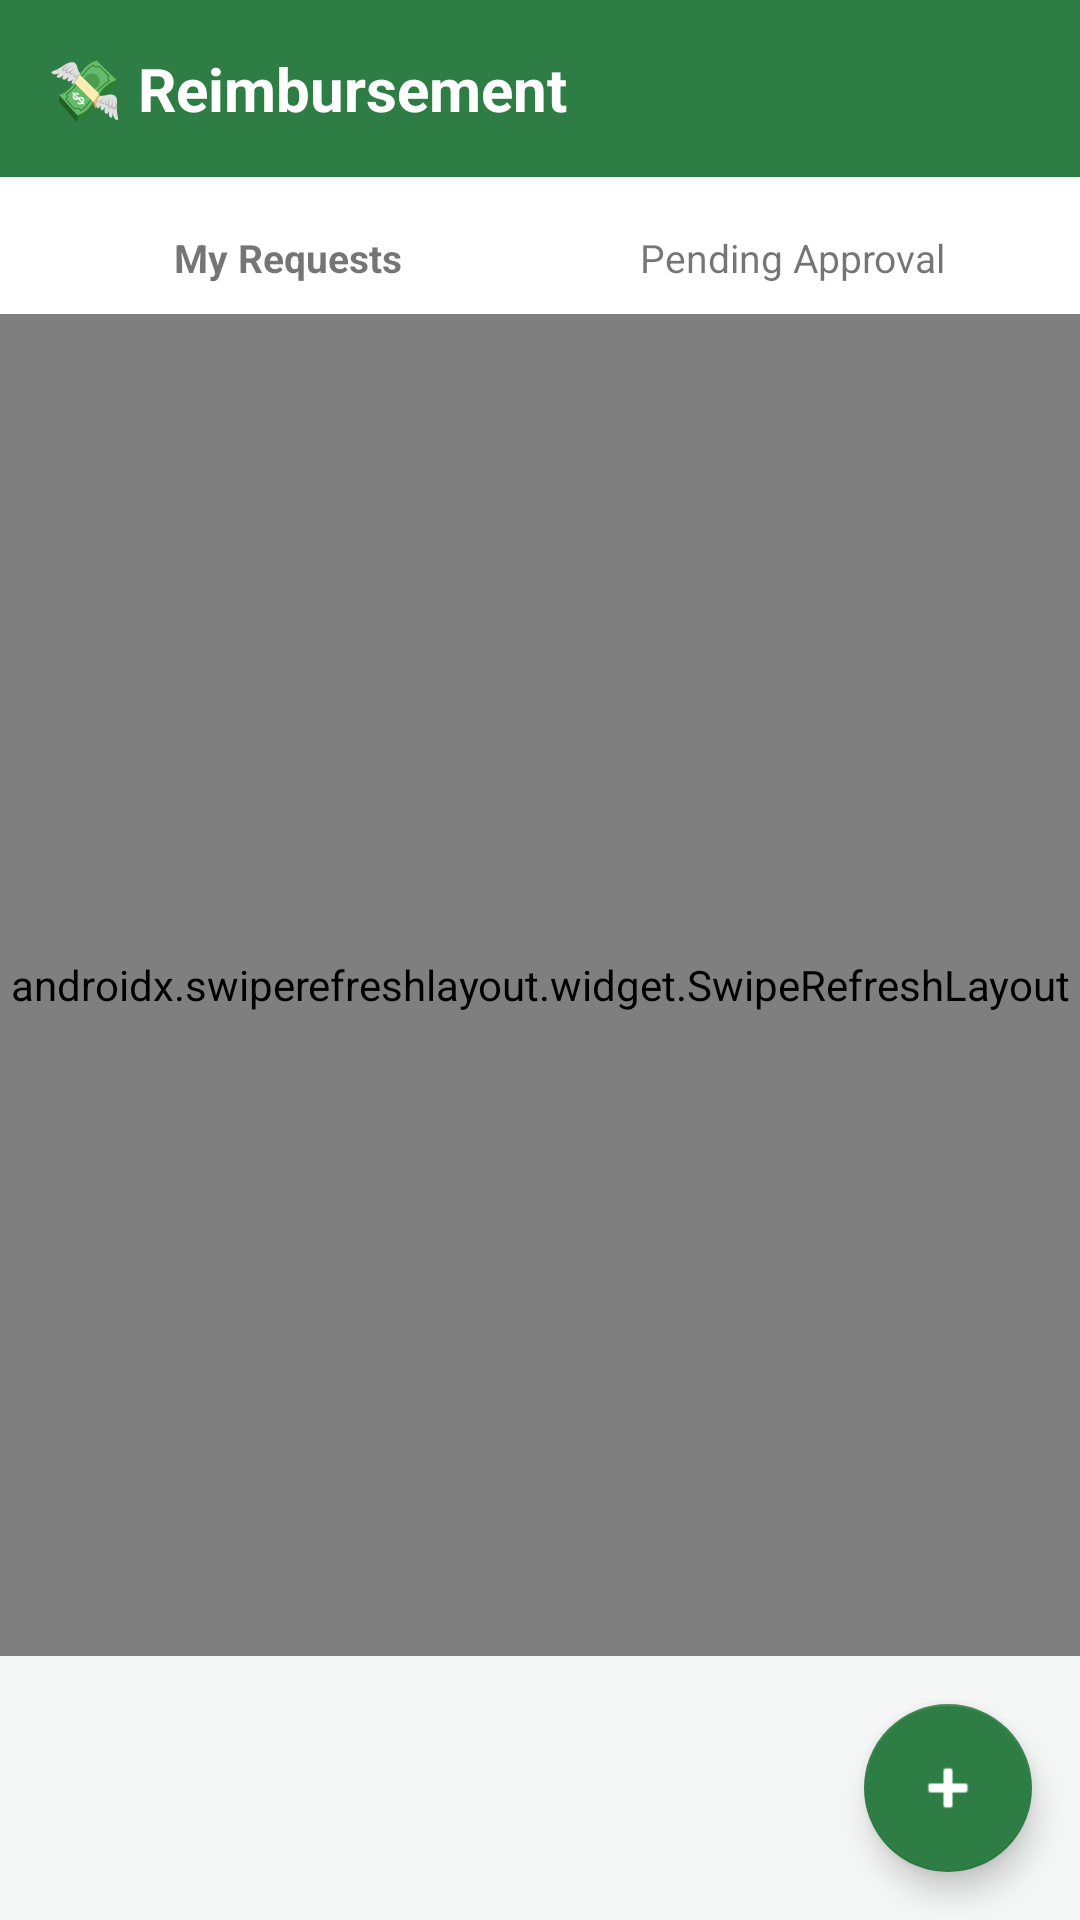

Icons on this 1080w x 1920h Android screen, each with the point to tap as (x,y):
Apply Reimbursement: (948,1788)
